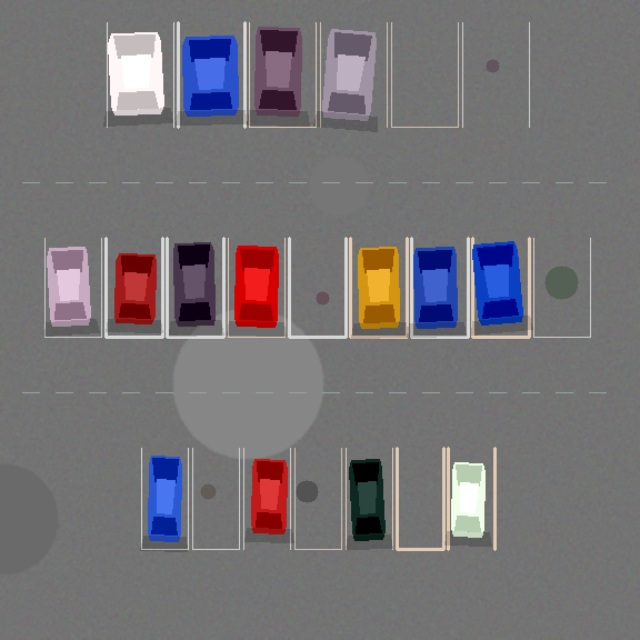space-empty: (391, 22, 458, 127), (462, 22, 529, 127), (289, 238, 346, 337), (533, 238, 590, 337), (192, 448, 239, 549), (294, 448, 341, 549), (397, 448, 443, 549)
space-occupied: (249, 22, 316, 127), (320, 22, 387, 127), (107, 22, 173, 127), (178, 22, 244, 127), (44, 238, 101, 337), (350, 238, 407, 337), (411, 238, 468, 337), (472, 238, 529, 337), (106, 238, 162, 337), (167, 238, 223, 337), (228, 238, 284, 337), (141, 448, 188, 549), (243, 448, 290, 549), (346, 448, 392, 549), (448, 448, 494, 549)
